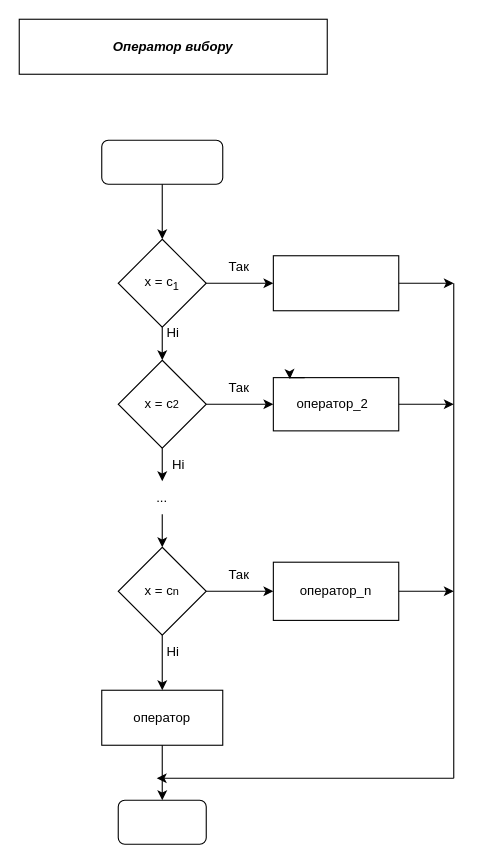
This 482x864 diagram has some shape labels left out. The shapes that lost their labels are listed below. From the top down, each one's centre as x and y in pixels, then its label:
At point (162, 161): "Case x".
At point (335, 283): "оператор_1".
At point (161, 821): "End".
